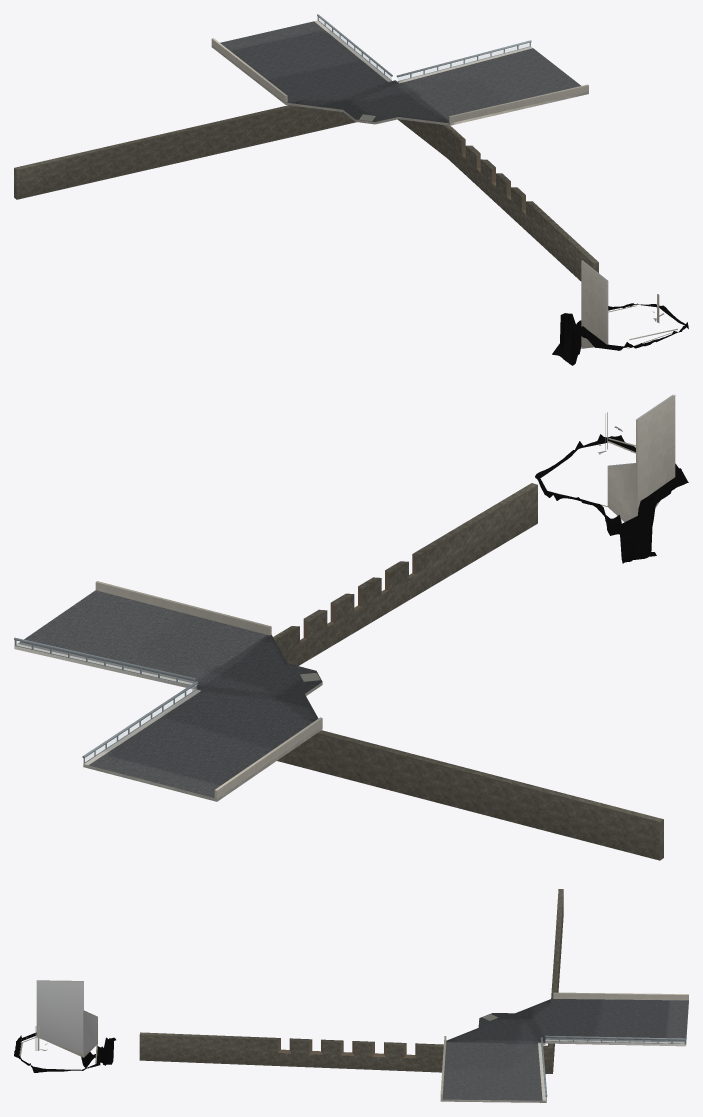
File: site.glb
3 views of the same model, one above another, from view 1: azimuth 30°, elevation 25°; view 2: azimuth 150°, elevation 25°; view 3: azimuth 270°, elevation 25° (orthographic). The views are drawn at different scales.
Parts seen in each view (by area): view 1: site/floors, site/walls, site/glass; view 2: site/floors, site/walls, site/glass; view 3: site/floors, site/walls, site/glass.
Part boxes in pixels (<box>): site/floors: <box>211,14,688,365</box>; site/walls: <box>14,39,608,348</box>; site/glass: <box>319,18,529,80</box>; site/floors: <box>14,412,688,801</box>; site/walls: <box>95,394,675,860</box>; site/glass: <box>16,641,196,761</box>; site/floors: <box>14,992,688,1102</box>; site/walls: <box>36,889,688,1099</box>; site/glass: <box>546,1038,684,1043</box>.
Bounding box in the file's own units: 88.74 × 17.41 × 117.
Materials: 13 (4 with a texture image).
